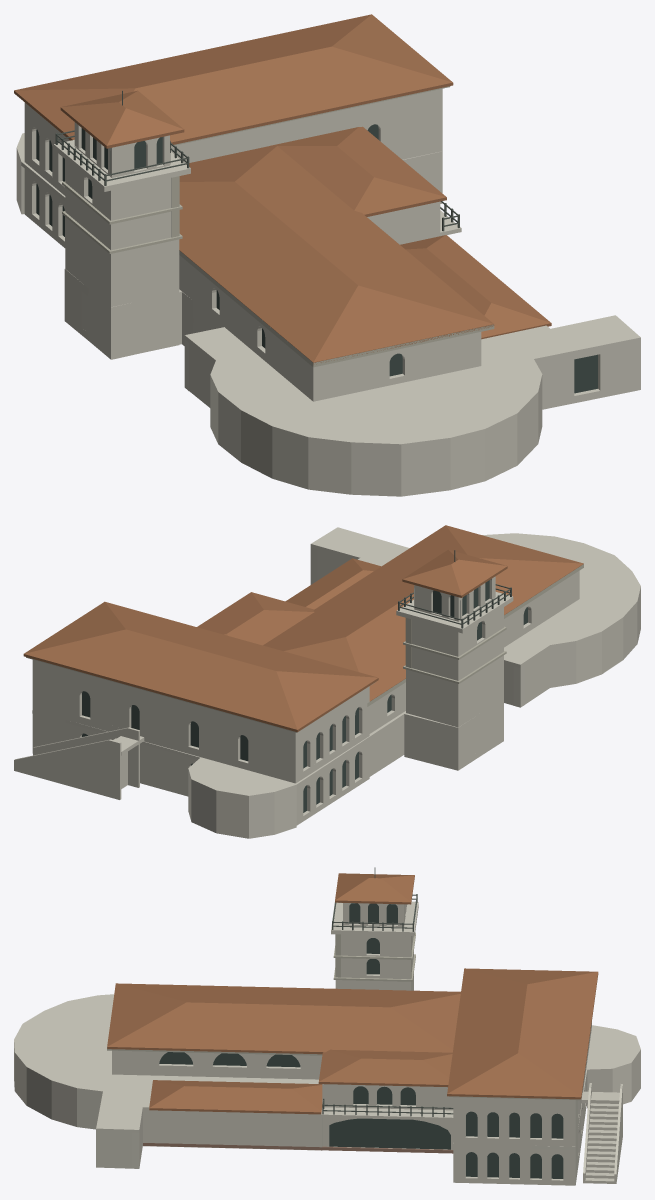
File: museo-arte-costarricense-near.glb
3 views of the same model, one above another, from view 1: azimuth 30°, elevation 25°; view 2: azimuth 150°, elevation 25°; view 3: azimuth 270°, elevation 25° (orthographic). The views are drawn at different scales.
Visible parts, largest first — view 1: museo-arte-costarricense-0-white, museo-arte-costarricense-0-roof, museo-arte-costarricense-0-trim, museo-arte-costarricense-0-glass, museo-arte-costarricense-0-iron; view 2: museo-arte-costarricense-0-white, museo-arte-costarricense-0-roof, museo-arte-costarricense-0-glass, museo-arte-costarricense-0-trim, museo-arte-costarricense-0-iron; view 3: museo-arte-costarricense-0-roof, museo-arte-costarricense-0-white, museo-arte-costarricense-0-glass, museo-arte-costarricense-0-trim, museo-arte-costarricense-0-base, museo-arte-costarricense-0-iron, museo-arte-costarricense-0-metal.
Part boxes in pixels (x1,y1,x2,y2): museo-arte-costarricense-0-white: (16, 88, 640, 496); museo-arte-costarricense-0-roof: (14, 14, 551, 364); museo-arte-costarricense-0-trim: (62, 86, 494, 367); museo-arte-costarricense-0-glass: (36, 124, 597, 393); museo-arte-costarricense-0-iron: (56, 130, 458, 226); museo-arte-costarricense-0-white: (14, 527, 640, 838); museo-arte-costarricense-0-roof: (23, 525, 583, 732); museo-arte-costarricense-0-glass: (82, 580, 527, 812); museo-arte-costarricense-0-trim: (26, 564, 583, 732); museo-arte-costarricense-0-iron: (399, 584, 510, 624); museo-arte-costarricense-0-roof: (107, 873, 598, 1114); museo-arte-costarricense-0-white: (14, 901, 640, 1185); museo-arte-costarricense-0-glass: (159, 903, 563, 1178); museo-arte-costarricense-0-trim: (107, 902, 579, 1100); museo-arte-costarricense-0-base: (143, 1143, 453, 1153); museo-arte-costarricense-0-iron: (322, 894, 453, 1114); museo-arte-costarricense-0-metal: (322, 867, 444, 1117).
Bounding box in the file's own units: 34.57 × 18.5 × 58.34.
